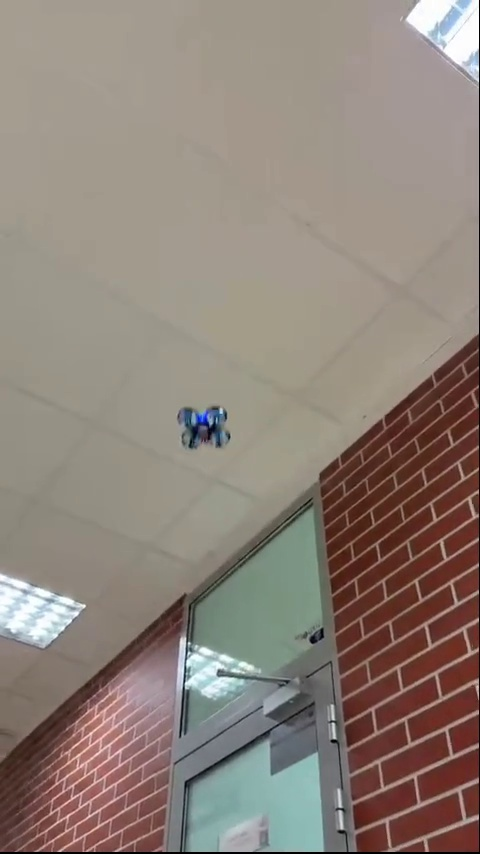drone: (177, 405, 236, 449)
